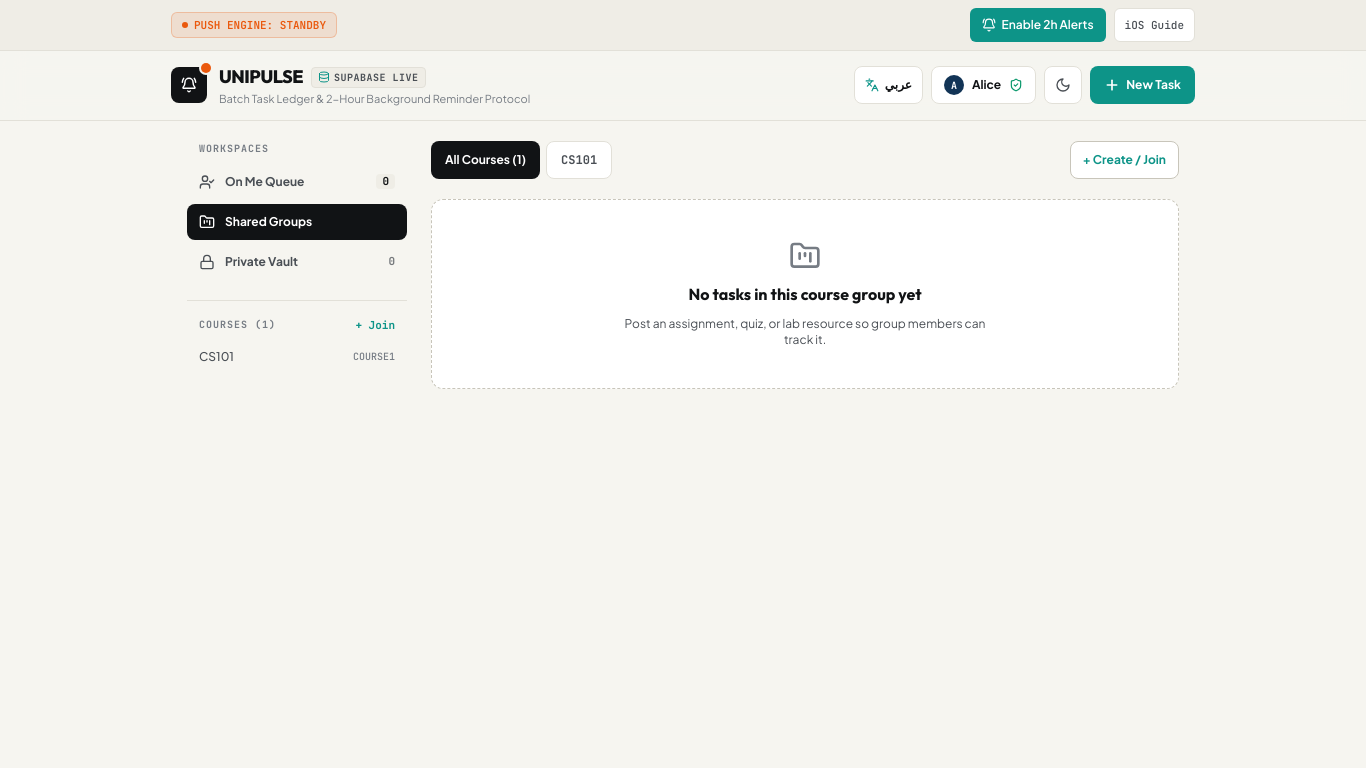
reports a refused clipboard copy without claiming the invitation was copied
What coordinates should you click on to do the following:
click the button "CS101"
I would click on:
 (579, 160)
Its box is [546,140,612,178].
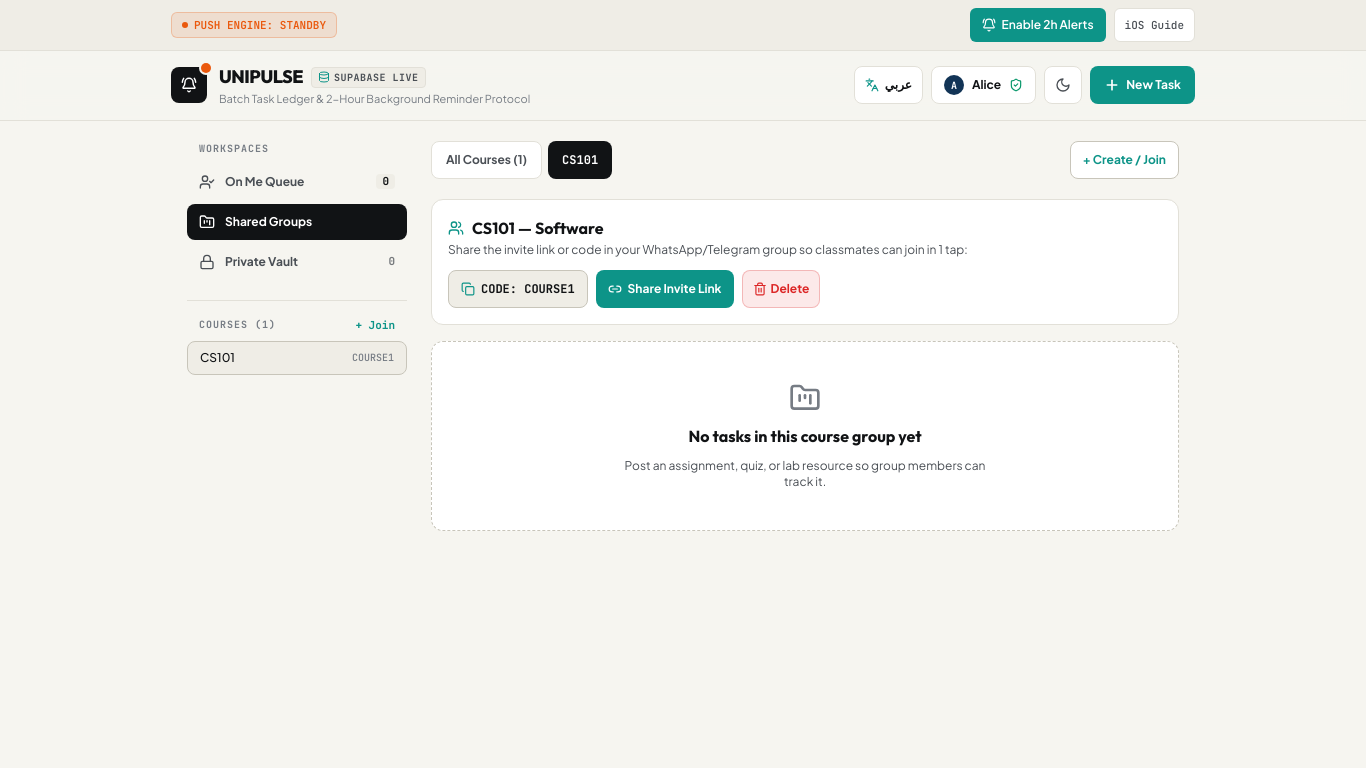
What coordinates should you click on to do the following:
click the button "CODE: COURSE1"
I would click on:
 (518, 288)
Its box is [448,270,588,308].
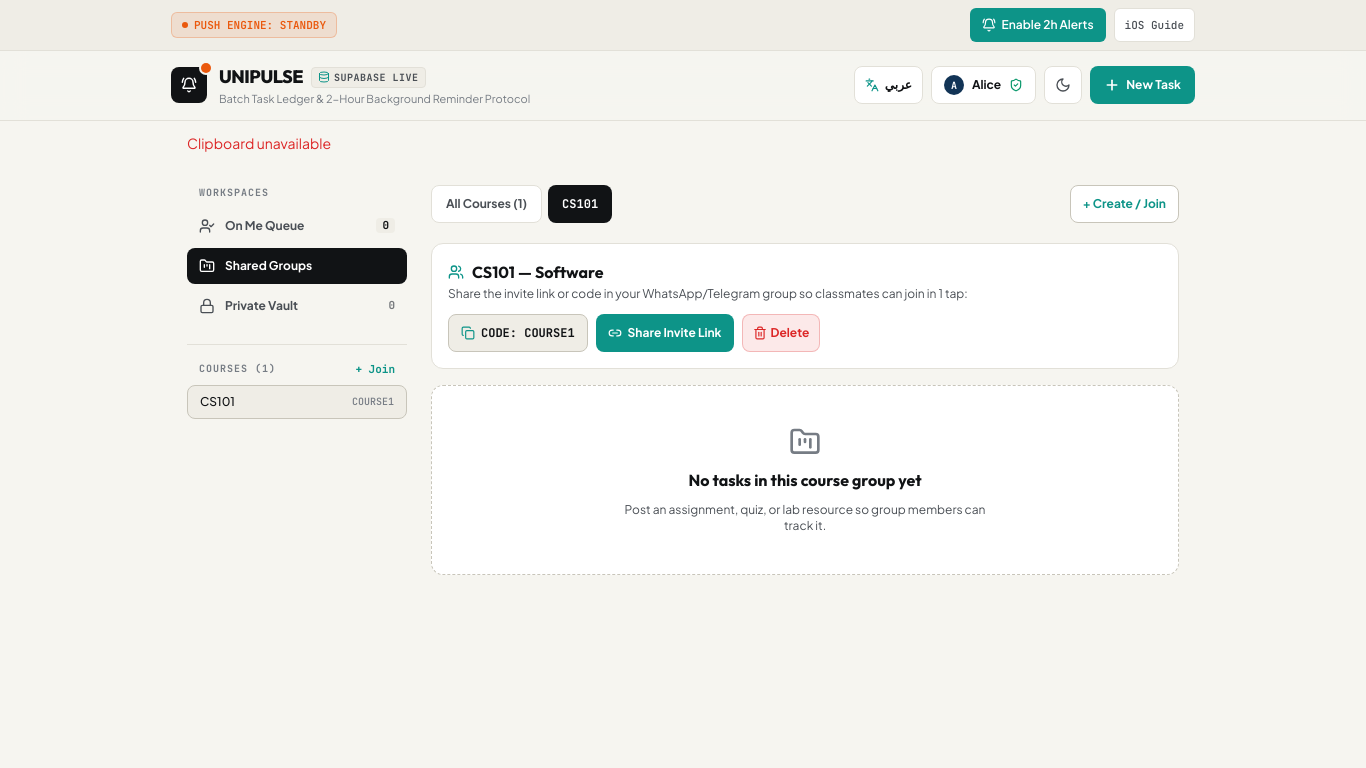
Now the message "Clipboard unavailable" is shown, box [187,134,331,152]
